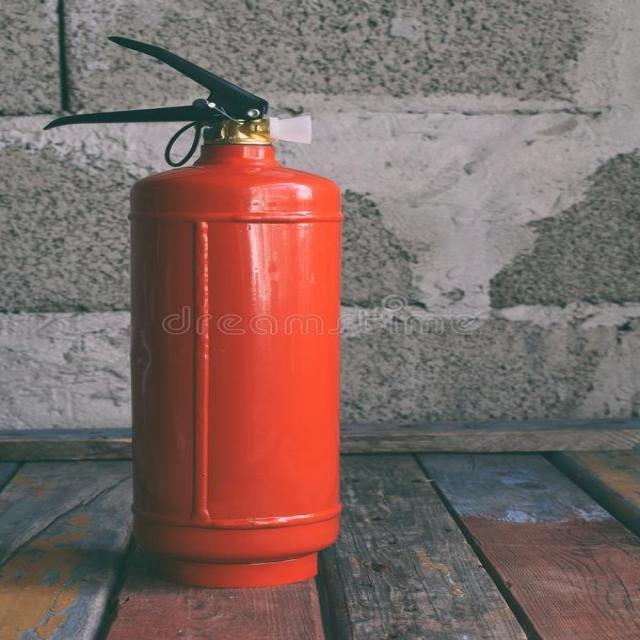fire_extinguisher: (36, 29, 356, 590)
